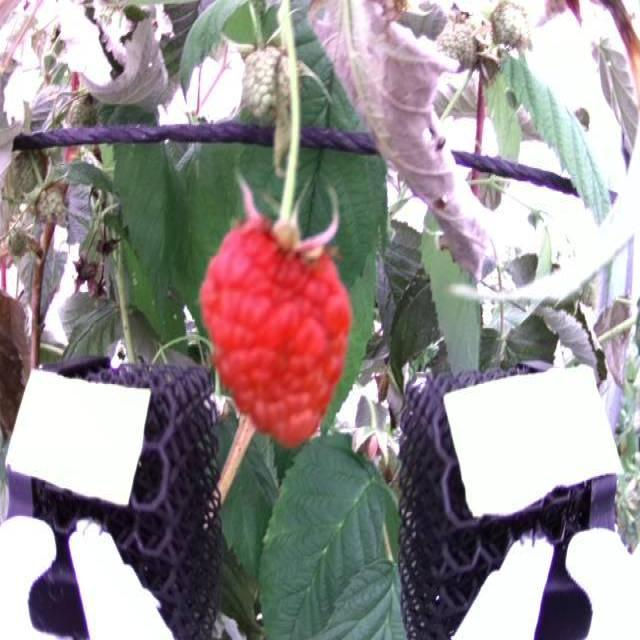Riped berries: (198, 209, 354, 447)
